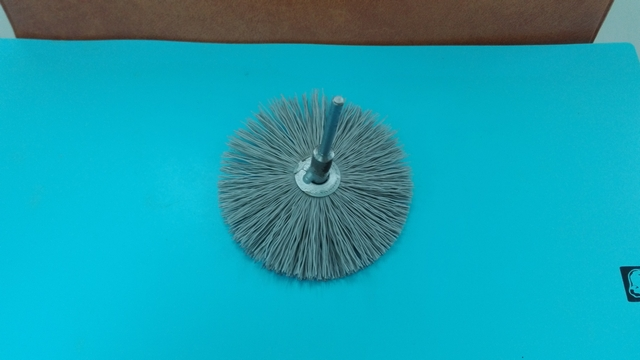TOOL: (150, 48, 496, 303), (205, 87, 434, 287), (212, 101, 422, 280)
